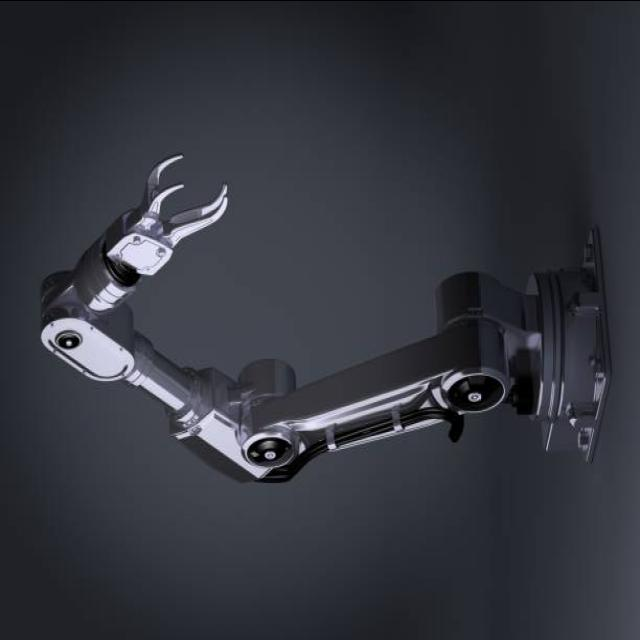Robotic-arm: (20, 133, 611, 489)
